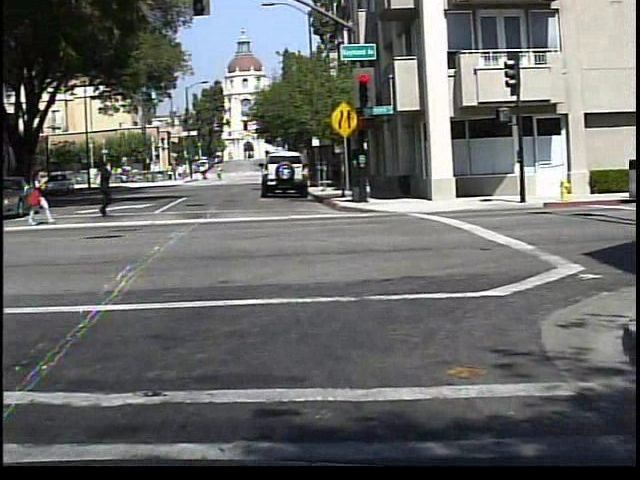person: (83, 157, 121, 222), (23, 164, 51, 229), (209, 163, 221, 183), (196, 165, 206, 184)
